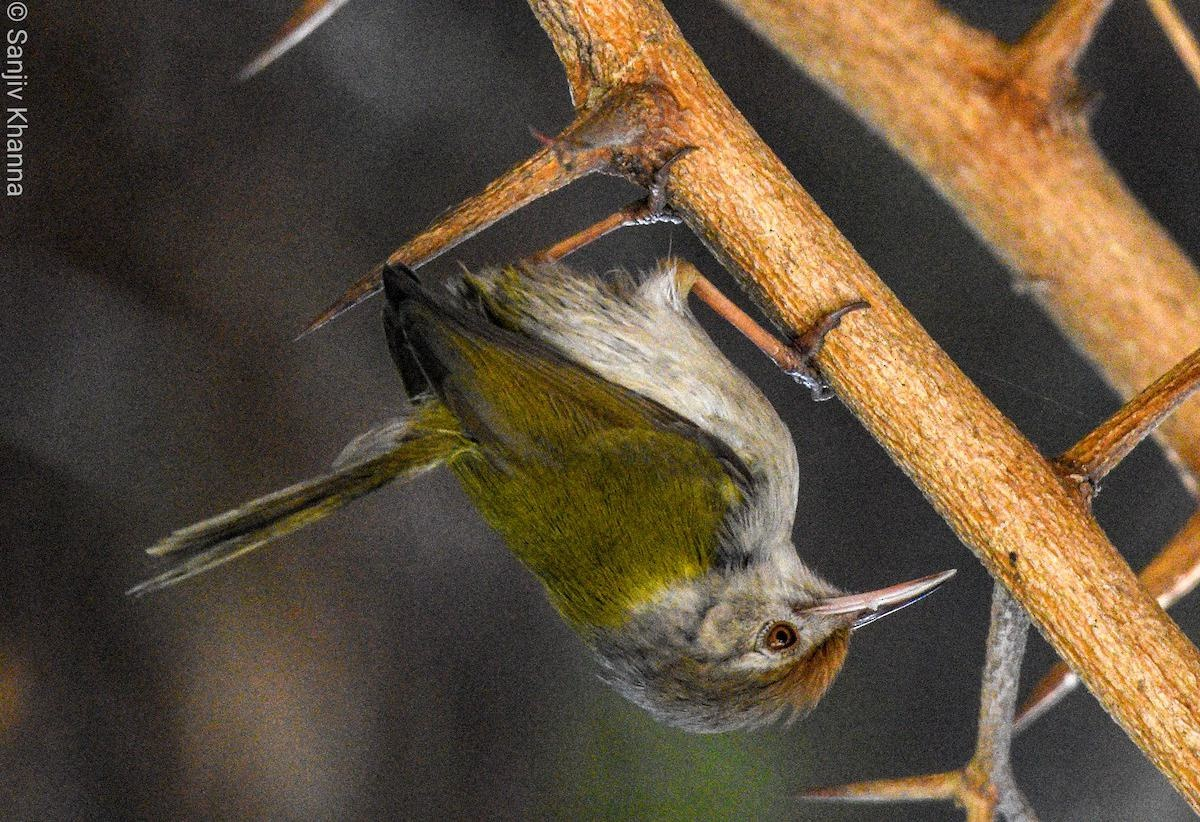tailorbird: (147, 249, 941, 723)
